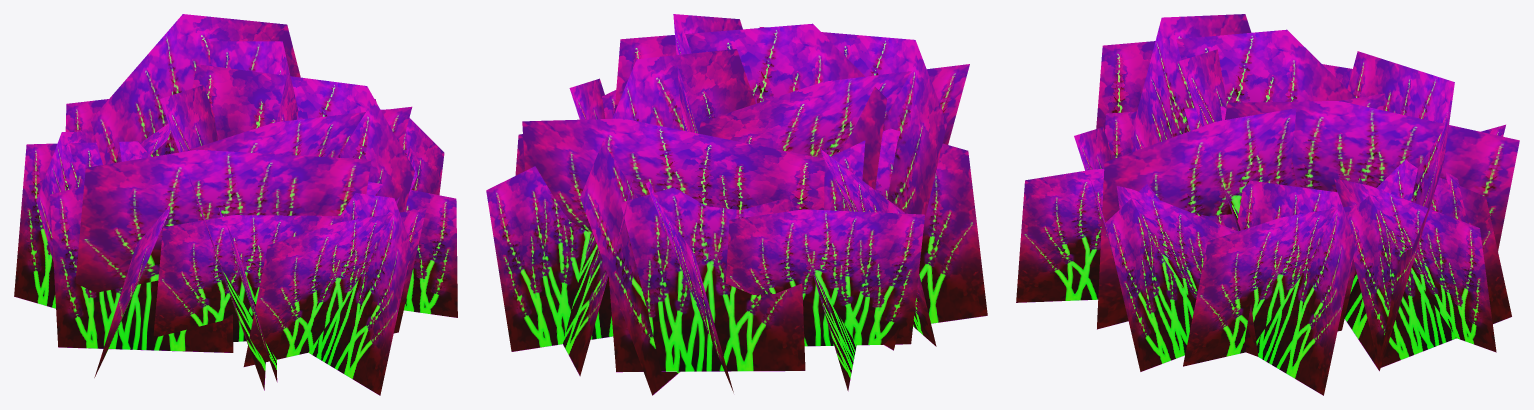
Rendered from SM_Heather_01.fbx.
3 views of the same model, side by side, from view 1: azimuth 30°, elevation 25°; view 2: azimuth 150°, elevation 25°; view 3: azimuth 270°, elevation 25° (orthographic). The views are drawn at different scales.
Parts seen in each view (by area): view 1: SM_Heather_01; view 2: SM_Heather_01; view 3: SM_Heather_01.
Part boxes in pixels (x1,y1,x2,y2): SM_Heather_01: (14, 14, 457, 395); SM_Heather_01: (486, 14, 987, 395); SM_Heather_01: (1016, 14, 1519, 395).
Bounding box in the file's own units: 151 × 91.31 × 167.
